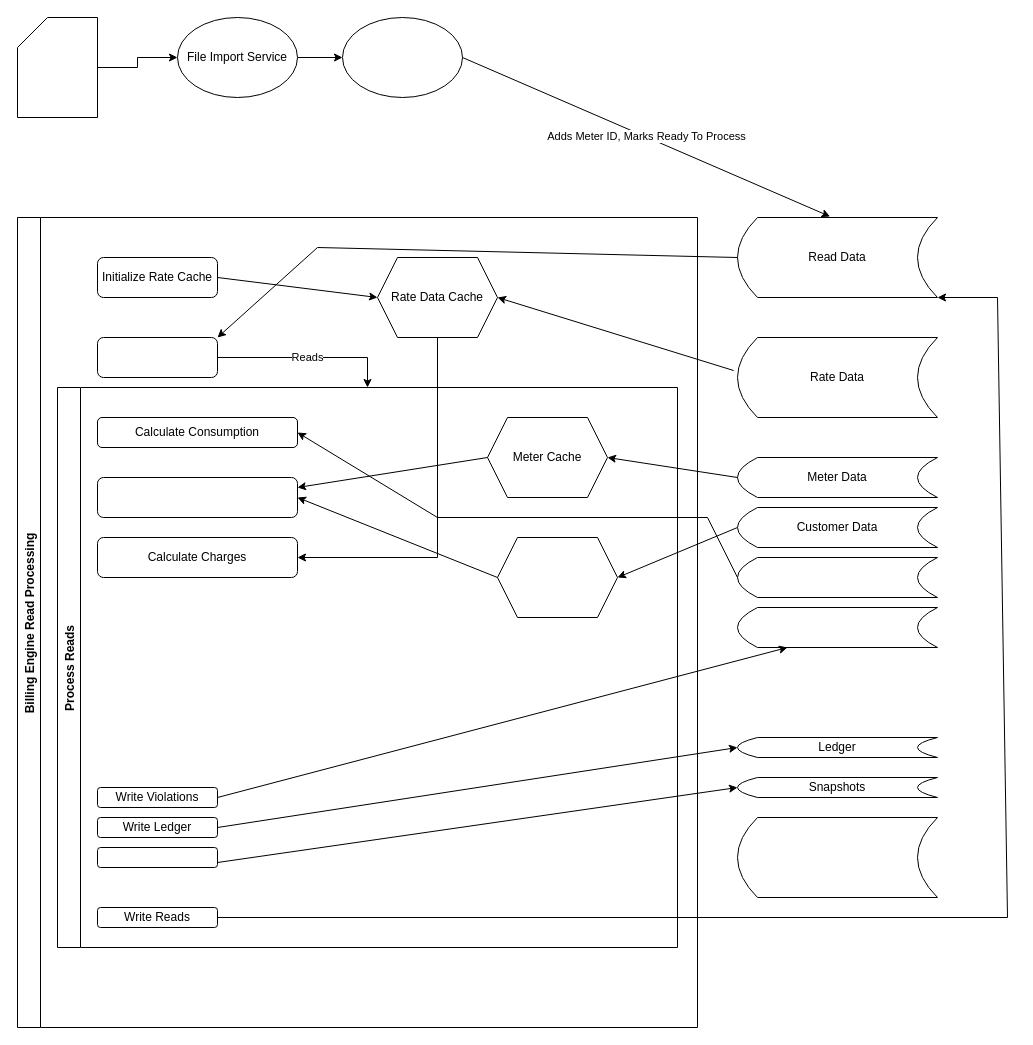
Some shapes in this 1033 by 1045 pixel diagram are drawn without their labels. The shapes that lost their labels are listed below. From the top down, each one's centre as x and y in pixels, then its label:
At point 57,67: "Read Data Meter SN Read Value Read Time".
At point 402,57: "Publisher".
At point 157,357: "Fetch a reads batch".
At point 197,497: "Validate Consumption".
At point 557,577: "Customer Cache".
At point 837,577: "Billing Cycle Assigns/History".
At point 837,627: "Violations".
At point 157,857: "Write Snapshots".
At point 837,857: "Relate Data Billing Cycle Assigns Billing Cycle Meter Assigns ...?".
